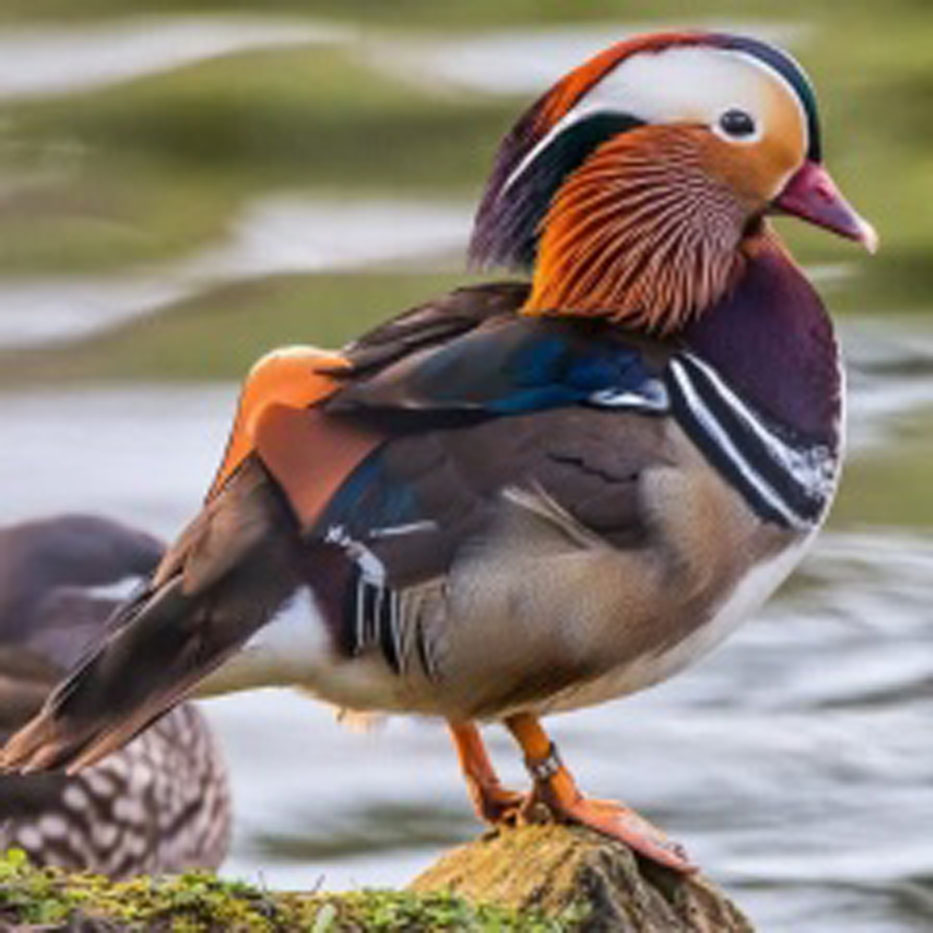Mencari Makan di Lumpur: (774, 165, 908, 267)
